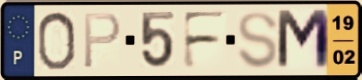5: (138, 10, 178, 71)
F: (180, 9, 229, 71)
M: (274, 8, 333, 73)
O: (35, 10, 78, 72)
P: (82, 11, 123, 71)
S: (235, 9, 280, 71)
